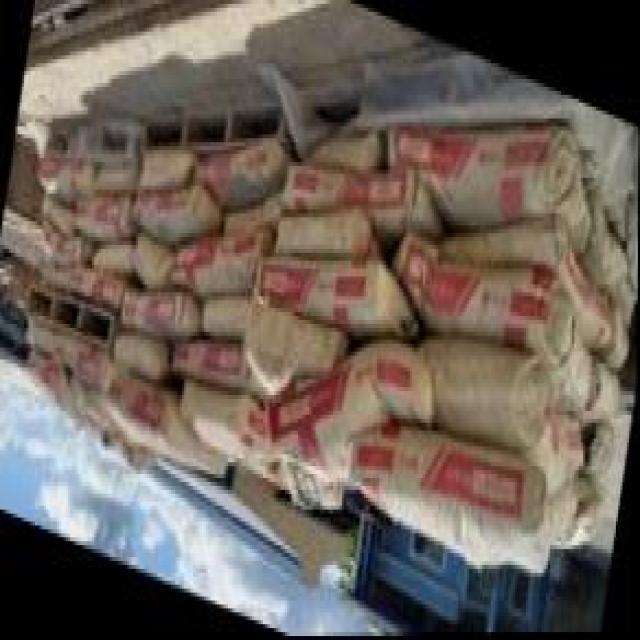gunny_bag: (354, 426, 555, 573), (386, 121, 597, 245), (262, 339, 432, 488), (398, 230, 579, 369), (443, 220, 593, 324), (101, 364, 233, 480), (255, 256, 416, 350), (423, 340, 557, 445), (245, 295, 344, 395), (193, 135, 287, 216), (181, 375, 270, 459), (173, 224, 271, 298), (133, 181, 222, 246), (277, 203, 376, 256), (369, 168, 436, 245), (583, 184, 630, 288), (526, 412, 585, 492), (26, 351, 84, 429), (283, 163, 358, 217), (553, 473, 605, 547), (124, 289, 204, 337), (552, 322, 594, 413), (308, 128, 381, 173), (75, 190, 134, 245), (174, 336, 242, 383), (577, 358, 621, 425), (114, 331, 170, 380), (133, 230, 176, 292), (41, 220, 91, 263), (204, 290, 249, 336), (141, 150, 193, 189), (72, 264, 120, 305), (605, 296, 631, 370), (40, 153, 77, 202), (72, 337, 108, 386), (588, 426, 615, 476), (92, 241, 134, 273), (42, 195, 75, 234)
